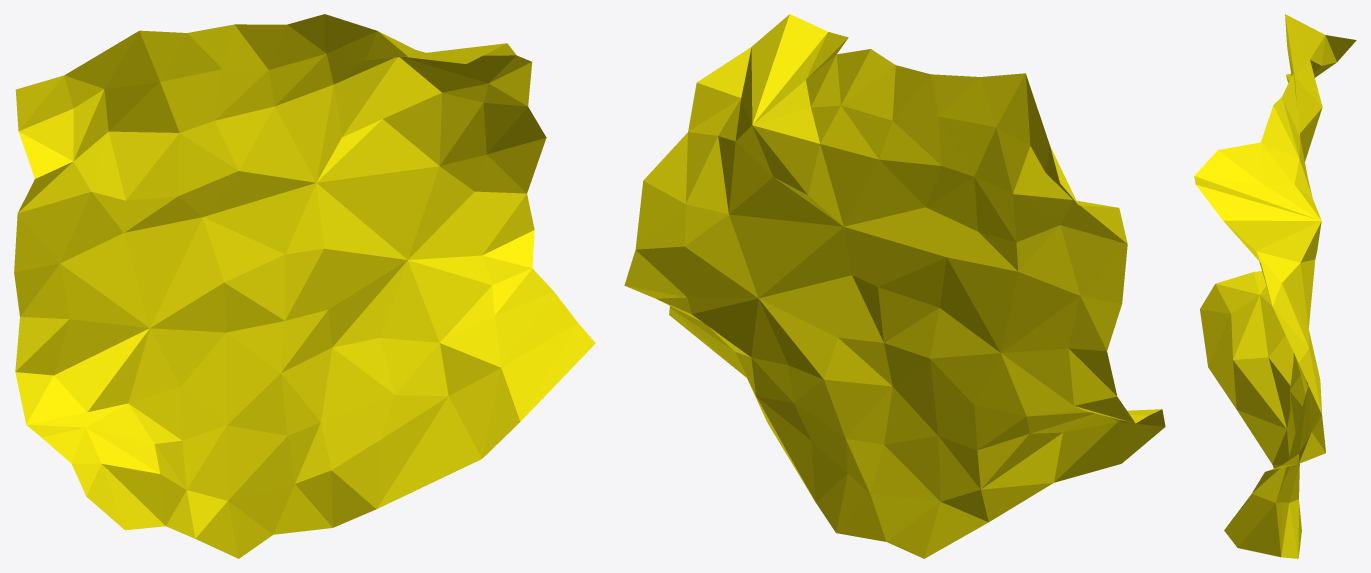
The model's file is Note1.fbx.
3 renders of one model, left to right at view 1: azimuth 30°, elevation 25°; view 2: azimuth 150°, elevation 25°; view 3: azimuth 270°, elevation 25°, orthographic. The views are drawn at different scales.
Visible parts, largest first — view 1: Note1; view 2: Note1; view 3: Note1.
Part boxes in pixels (x1=…): Note1: x1=14, y1=14, x2=595, y2=558; Note1: x1=624, y1=14, x2=1165, y2=558; Note1: x1=1194, y1=14, x2=1356, y2=558.
Bounding box in the file's own units: 207 × 204 × 64.1.
